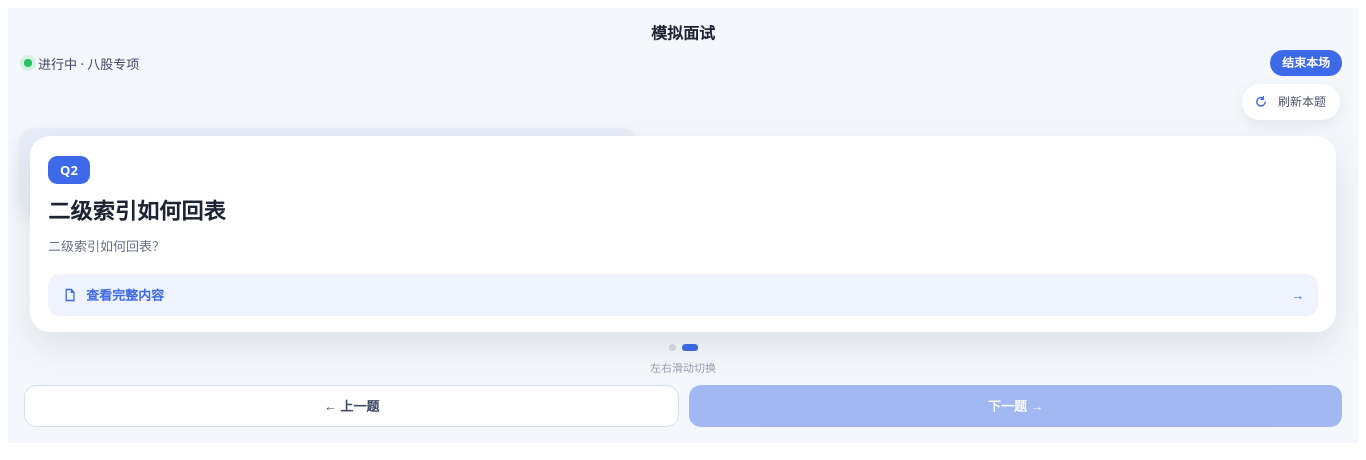
it: EntryPanel watchCoachTurn › restores two cards after the overlay unmounts
The width and height of the screenshot is (1366, 460).
Expected: the text with test id "card-id" reads "Q2", [60,161,78,179]
Step 1. Click the button with test id "prev-card" → click(352, 406), box [24,385,679,427]
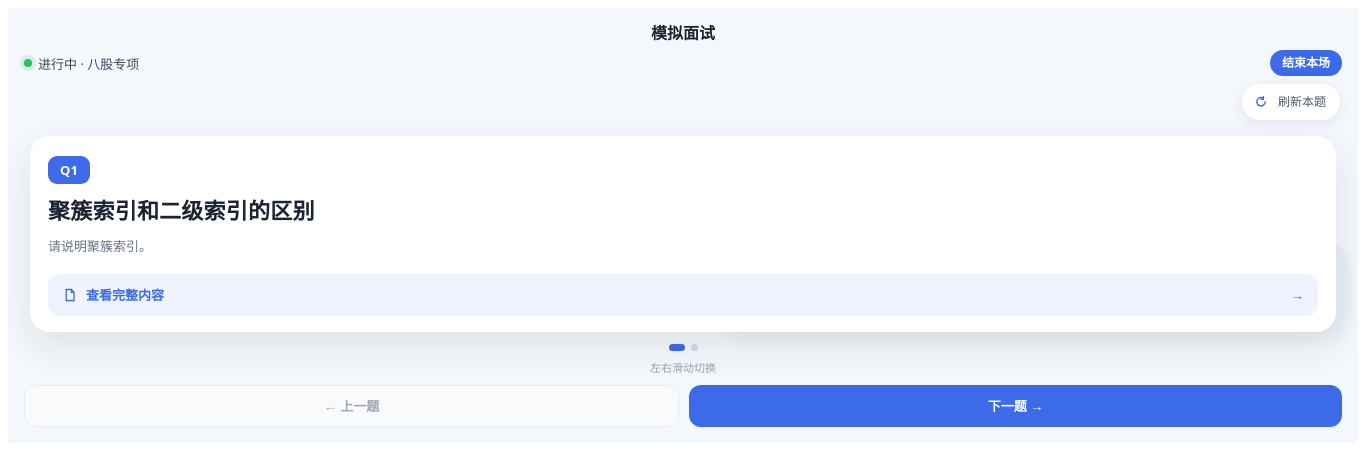
Now the text with test id "card-id" reads "Q1", box [60,161,78,179]
Now the heading "聚簇索引和二级索引的区别" is shown, box [48,195,315,225]
